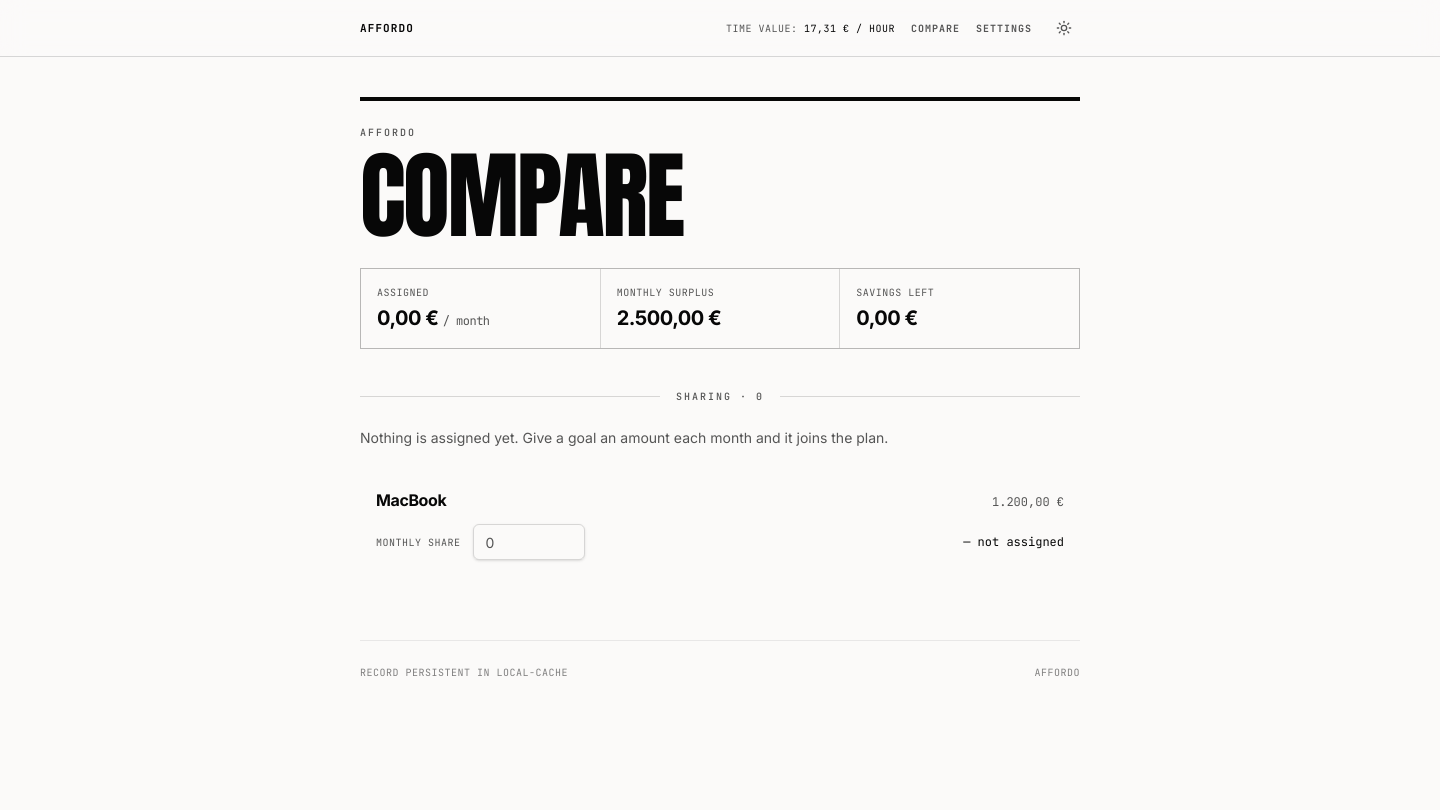
it: assigning a Share › updates the months as soon as it is assigned
The width and height of the screenshot is (1440, 810).
Step 1. Type "100" into the field labelled "Monthly share" → (528, 542), box [472,524,584,560]
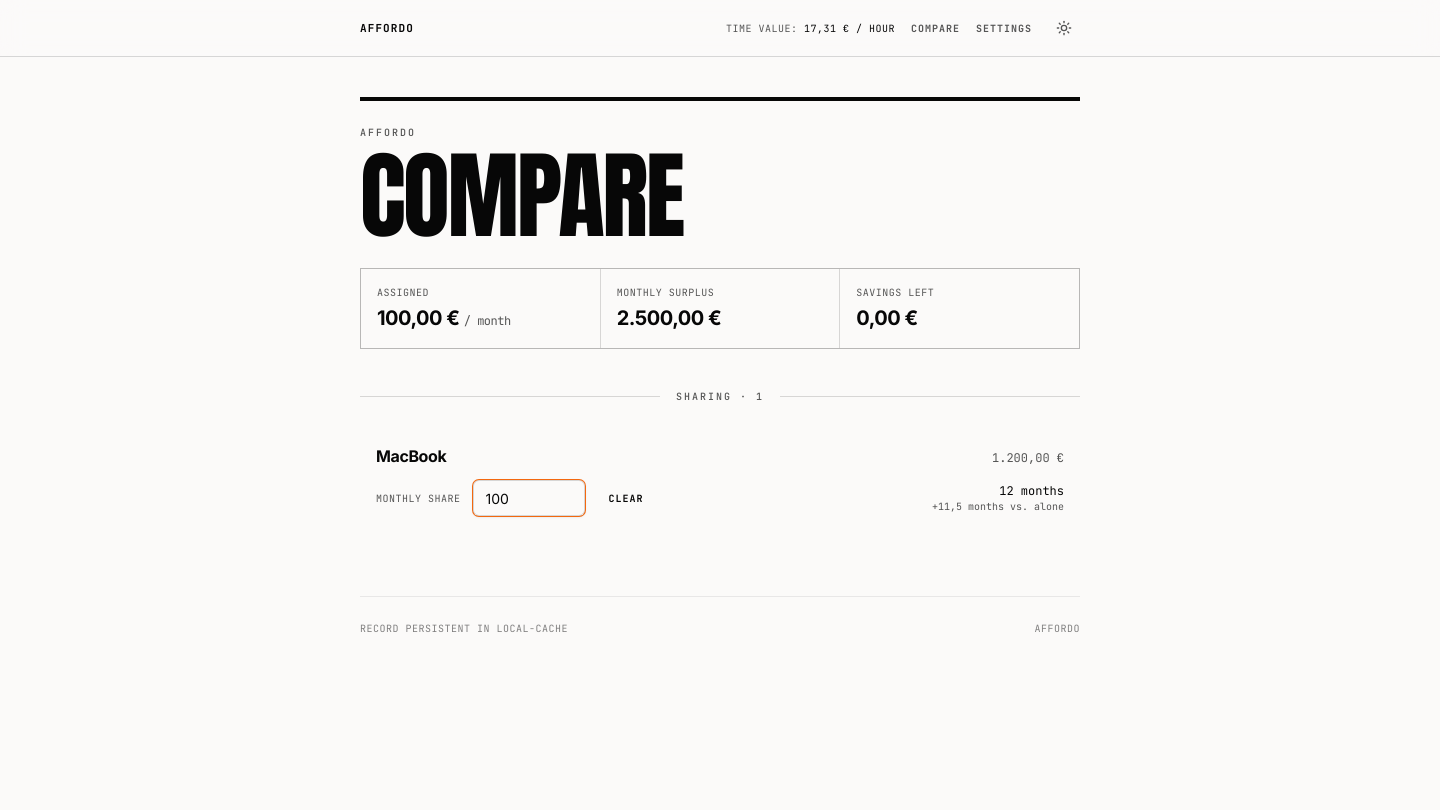
Expected: the text with test id "compare-months" shows "12", [999,482,1064,498]
